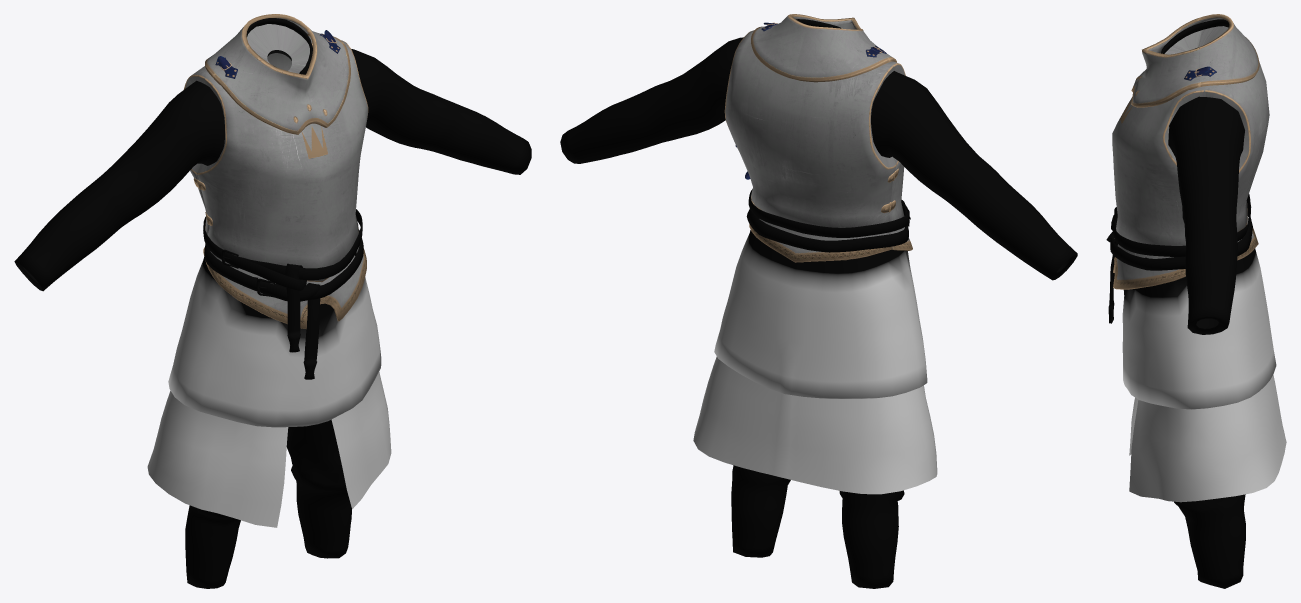
File: swan_knight_armor_2b_t2.fbx
The picture shows the model from 3 angles, left to right: view 1: azimuth 30°, elevation 25°; view 2: azimuth 150°, elevation 25°; view 3: azimuth 270°, elevation 25°; orthographic projection. The views are drawn at different scales.
Visible parts, largest first — view 1: swan_knight_armor_2b_t2.0, swan_knight_armor_2b_t2.1; view 2: swan_knight_armor_2b_t2.0, swan_knight_armor_2b_t2.1; view 3: swan_knight_armor_2b_t2.0, swan_knight_armor_2b_t2.1.
Part boxes in pixels (bbox=[...]): swan_knight_armor_2b_t2.0: bbox=[14, 18, 531, 588]; swan_knight_armor_2b_t2.1: bbox=[183, 14, 368, 329]; swan_knight_armor_2b_t2.0: bbox=[560, 19, 1077, 588]; swan_knight_armor_2b_t2.1: bbox=[724, 14, 912, 262]; swan_knight_armor_2b_t2.0: bbox=[1106, 19, 1286, 588]; swan_knight_armor_2b_t2.1: bbox=[1112, 14, 1269, 289].
Bounding box in the file's own units: 1.34 × 0.424 × 1.38.
